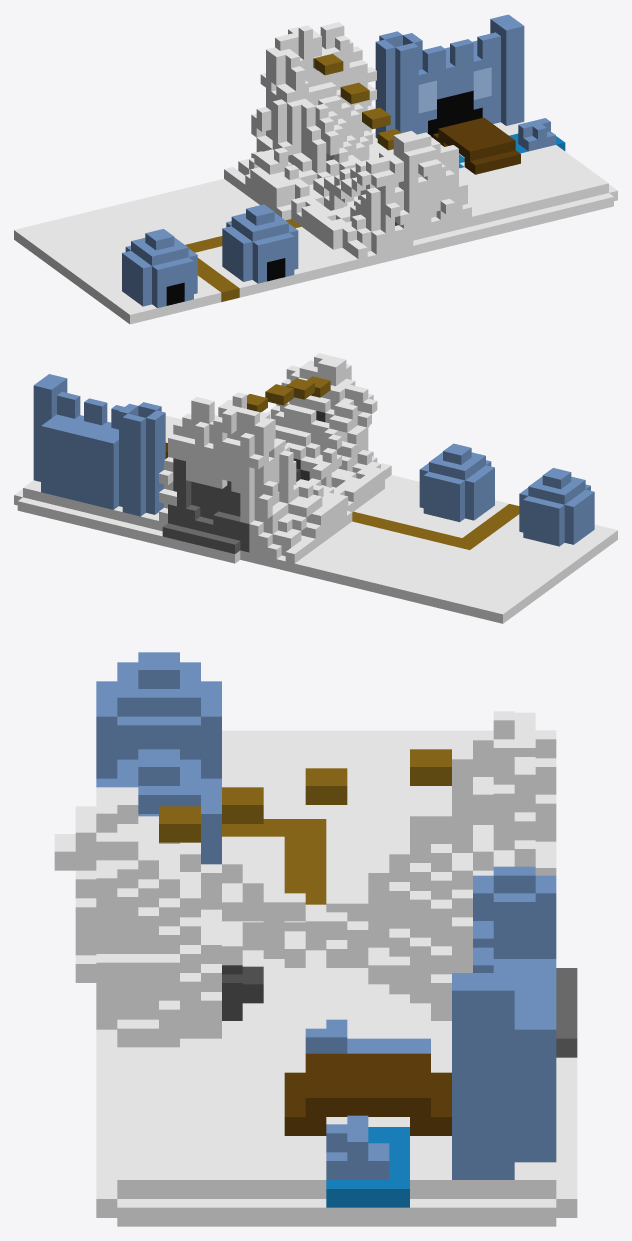
The model's file is World Ice PART 2.gltf.
3 views of the same model, one above another, from view 1: azimuth 30°, elevation 25°; view 2: azimuth 150°, elevation 25°; view 3: azimuth 270°, elevation 25° (orthographic). The views are drawn at different scales.
Parts seen in each view (by area): view 1: Layer.2, Layer.1; view 2: Layer.2, Layer.1; view 3: Layer.1, Layer.2.
Part boxes in pixels (left/top/right/bottom): Layer.2: left=14, top=35, right=400, bottom=324; Layer.1: left=284, top=14, right=617, bottom=259; Layer.2: left=240, top=384, right=617, bottom=623; Layer.1: left=14, top=353, right=355, bottom=563; Layer.1: left=54, top=711, right=577, bottom=1226; Layer.2: left=96, top=652, right=535, bottom=967.
Size of the model in its own units: 54 by 16 by 25.
Materials: 1 (1 with a texture image).
